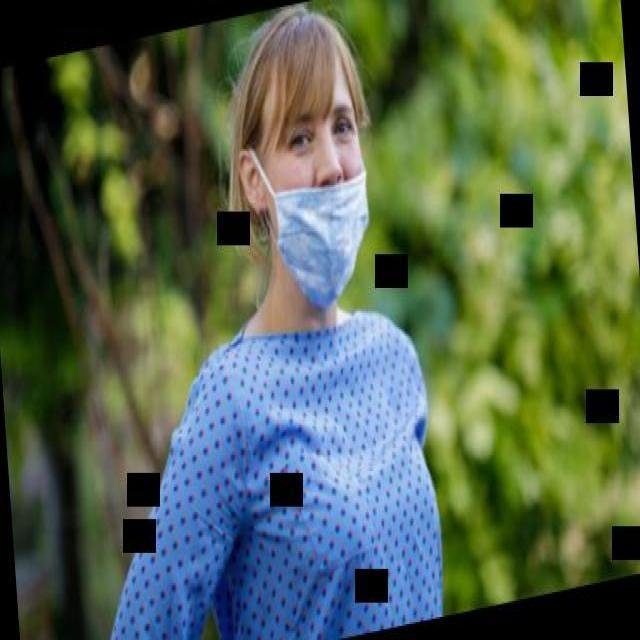hairnet: (271, 94, 368, 288)
